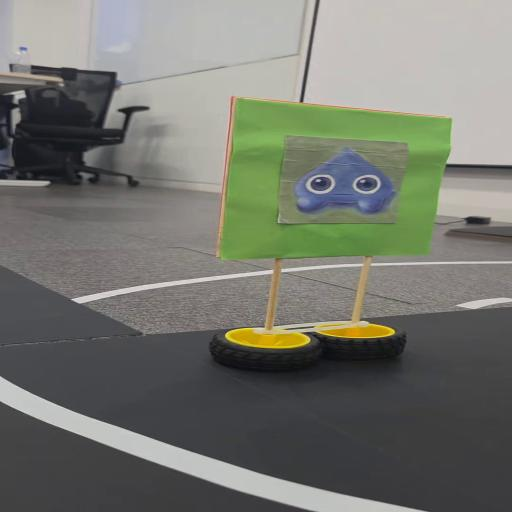Sign_B: (218, 95, 447, 371)
